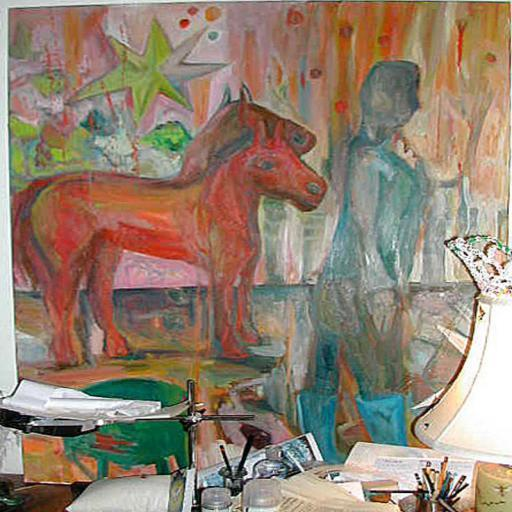horse: (0, 81, 320, 356), (17, 118, 330, 372)
